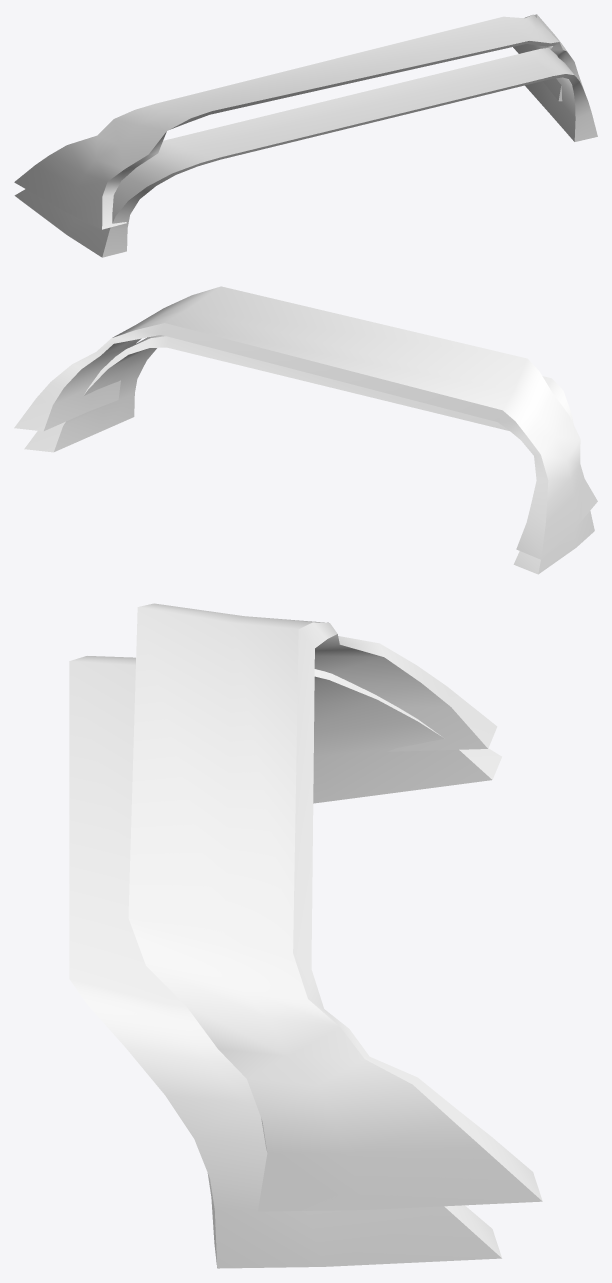
File: spl_c_j_b.glb
The picture shows the model from 3 angles, top to bottom: view 1: azimuth 30°, elevation 25°; view 2: azimuth 150°, elevation 25°; view 3: azimuth 270°, elevation 25°; orthographic projection. The views are drawn at different scales.
Parts seen in each view (by area): view 1: spl_c_j_b_dam, spl_c_j_b; view 2: spl_c_j_b_dam, spl_c_j_b; view 3: spl_c_j_b_dam, spl_c_j_b.
Boxes of the visible parts, x1,y1,x2,y2 form: spl_c_j_b_dam: [14, 14, 584, 229]; spl_c_j_b: [14, 48, 597, 257]; spl_c_j_b_dam: [14, 286, 597, 559]; spl_c_j_b: [24, 335, 594, 574]; spl_c_j_b_dam: [128, 603, 542, 1211]; spl_c_j_b: [69, 656, 501, 1268].
Size of the model in its own units: 1.8 by 0.4561 by 0.7167.
Materials: 1 (1 with a texture image).
